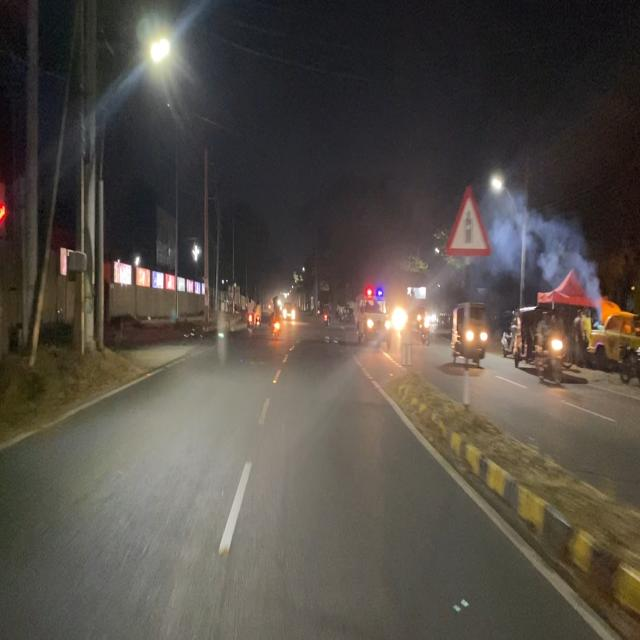bien_cam: (444, 182, 492, 256)
